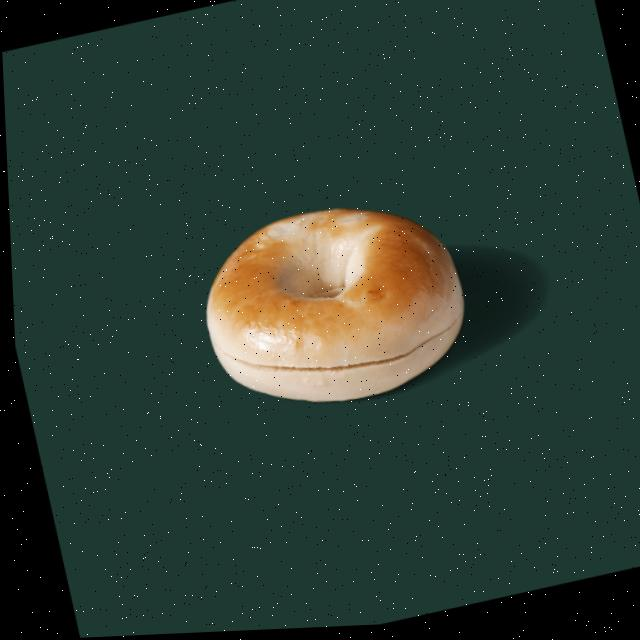Bagel: (203, 211, 461, 404)
